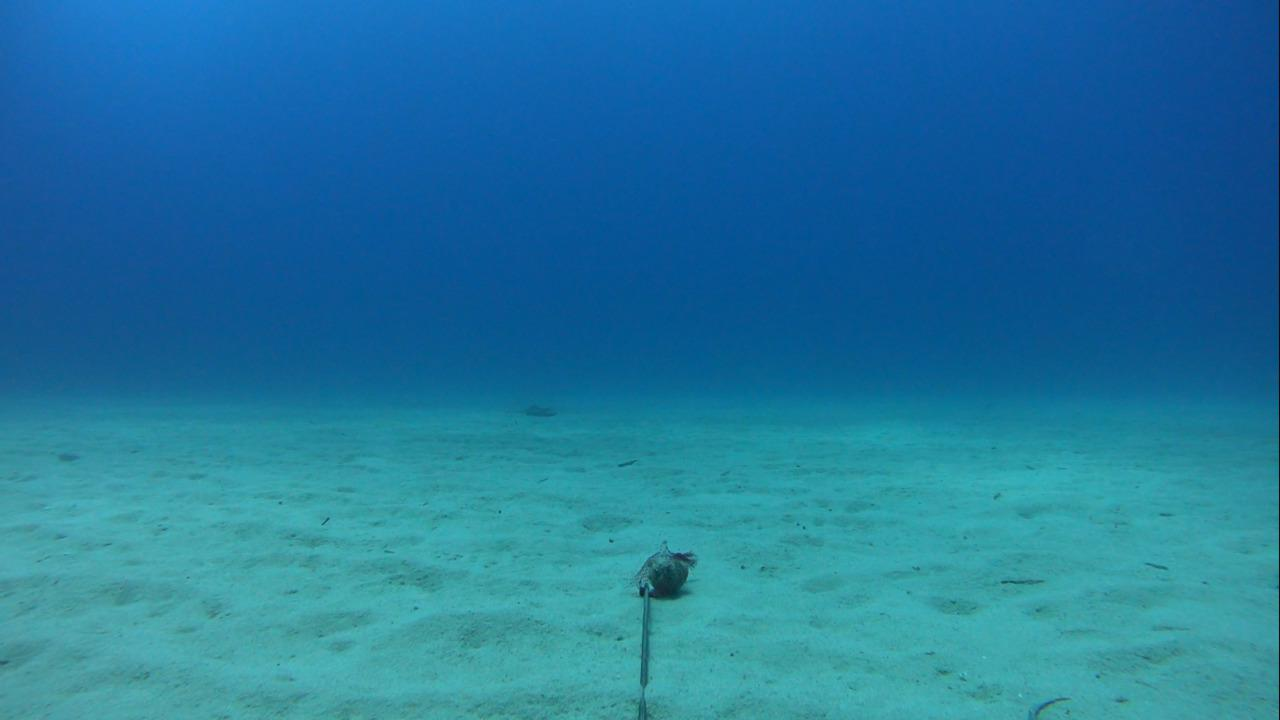myliobatis: (492, 399, 562, 423)
